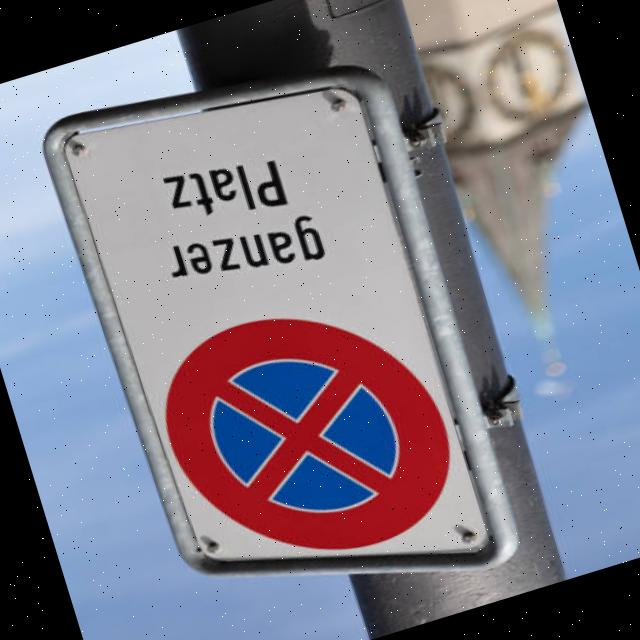no_parking: (127, 272, 470, 606)
